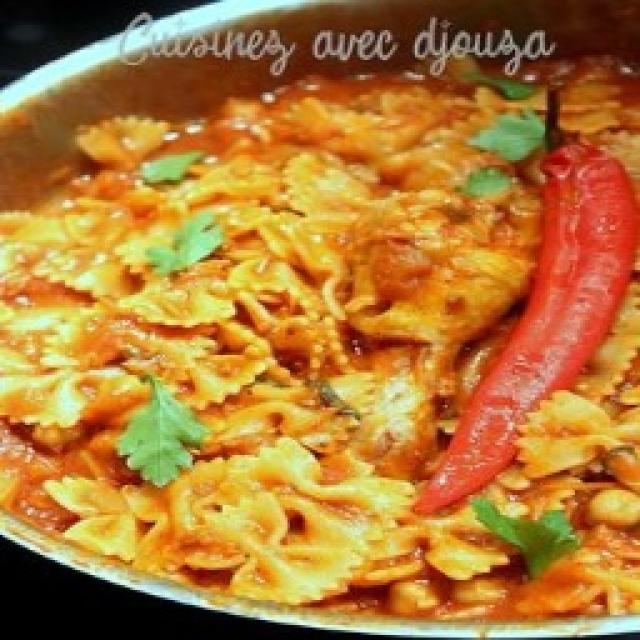Pasta: (0, 0, 640, 635)
